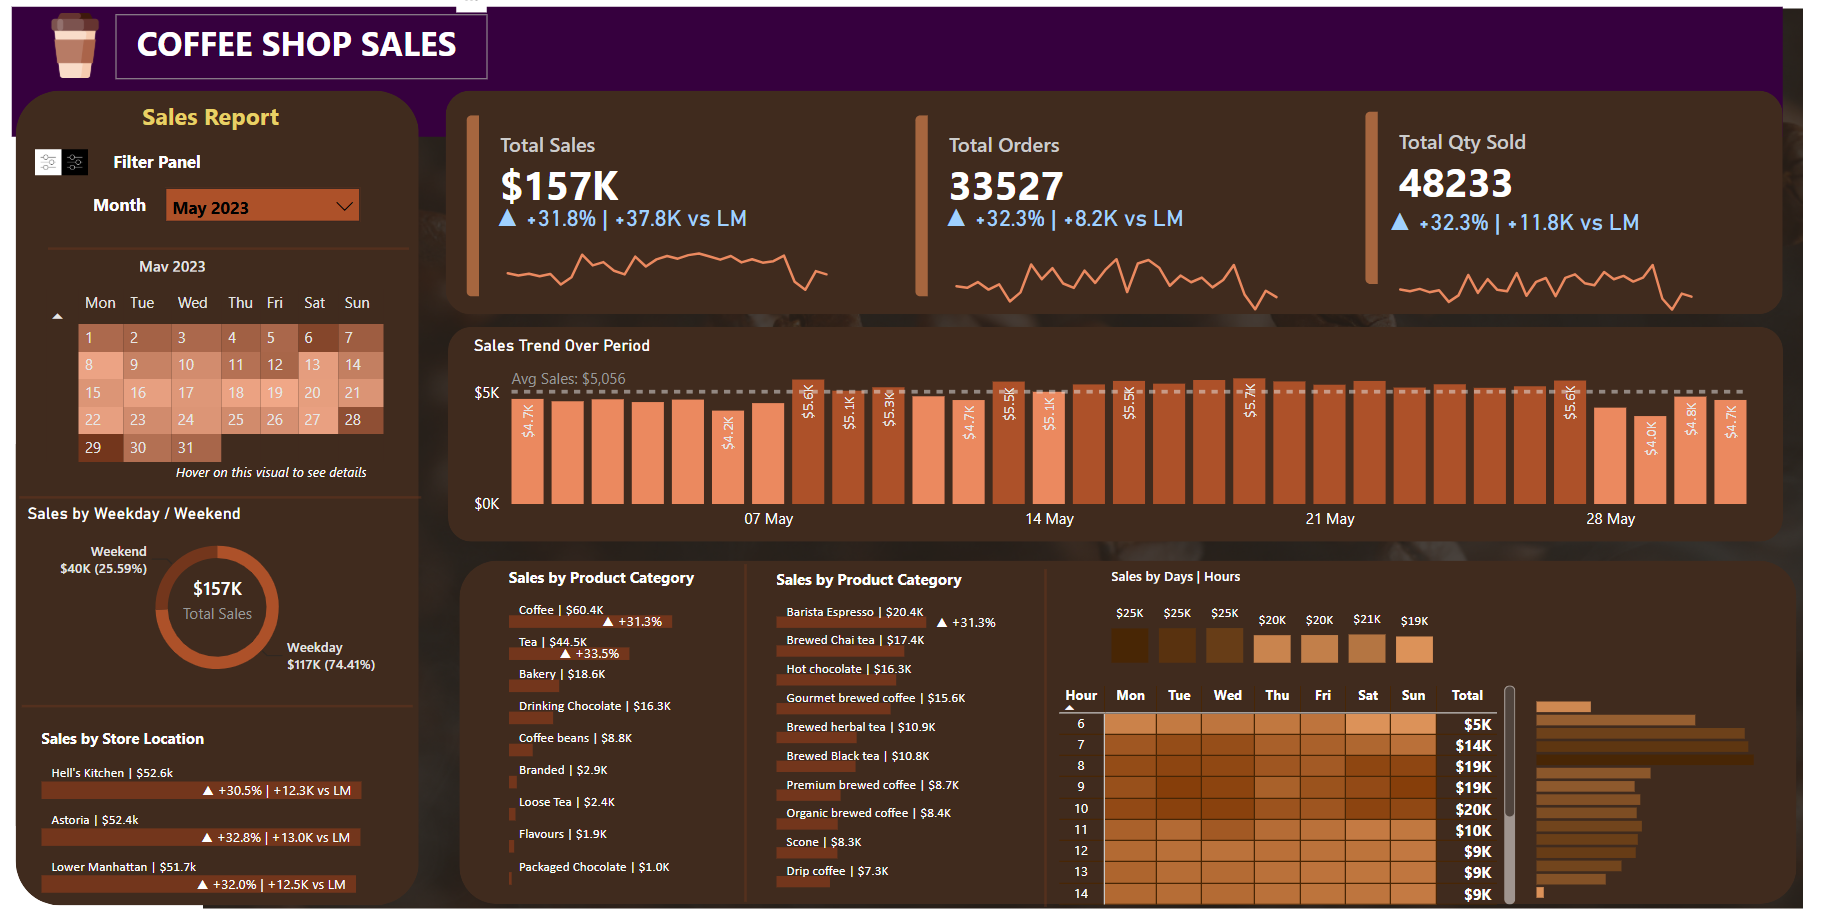

The page's visual inventory and layout, read from the dashboard file:
{"tool":"powerbi","page":{"name":"Dashboard Overview","canvas":[2200,900],"ordinal":0},"visuals":[{"type":"shape","box":[307.5,86.6,1416.4,104.5],"z":0},{"type":"shape","box":[310.4,153.7,322.4,652.2],"z":1000},{"type":"shape","box":[653.7,153.7,1070.1,179.1],"z":2000},{"type":"textbox","box":[389.6,92.5,298.5,52.2],"z":3000},{"type":"cardVisual","fields":{"Data":["Transactions.Total Qty Sold"]},"box":[1372.8,153.6,320,171.6],"z":4000,"group":"g3"},{"type":"cardVisual","fields":{"Data":["Transactions.Total Sales"]},"box":[653.7,156.8,320,179.1],"z":4000,"group":"g1"},{"type":"cardVisual","fields":{"Data":["Transactions.Total Orders"]},"box":[1012.5,156.8,320.9,179.1],"z":4000,"group":"g2"},{"type":"slicer","fields":{"Values":["Date Table.Month Year"]},"box":[424.8,226.7,166.7,40],"z":4000},{"type":"group","id":"g1","title":"Group 1","box":[653.7,156.8,319.4,179.1],"z":5000},{"type":"group","id":"g2","title":"Group 1","box":[1012.5,156.8,320.9,179.1],"z":6000},{"type":"lineChart","fields":{"Category":["Date Table.Date.Variation.Date Hierarchy.Year","Date Table.Date.Variation.Date Hierarchy.Quarter","Date Table.Date.Variation.Date Hierarchy.Month","Date Table.Date.Variation.Date Hierarchy.Day"],"Y":["Transactions.Total Sales"]},"box":[688.8,243.4,284.9,92.5],"z":6000,"group":"g1"},{"type":"lineChart","fields":{"Category":["Date Table.Date.Variation.Date Hierarchy.Year","Date Table.Date.Variation.Date Hierarchy.Quarter","Date Table.Date.Variation.Date Hierarchy.Month","Date Table.Date.Variation.Date Hierarchy.Day"],"Y":["Transactions.Total Orders"]},"box":[1047.7,243.4,285.7,92.5],"z":6000,"group":"g2"},{"type":"lineChart","fields":{"Category":["Date Table.Date.Variation.Date Hierarchy.Year","Date Table.Date.Variation.Date Hierarchy.Quarter","Date Table.Date.Variation.Date Hierarchy.Month","Date Table.Date.Variation.Date Hierarchy.Day"],"Y":["Transactions.Total Qty Sold"]},"box":[1403.3,246.6,262.7,92.5],"z":6000,"group":"g3"},{"type":"group","id":"g3","title":"Group 1","box":[1372.8,153.6,320,185.5],"z":7000},{"type":"pivotTable","fields":{"Columns":["Date Table.Day Name"],"Rows":["Date Table.Week Number"],"Values":["Min(Date Table.Day No)"]},"box":[329.5,308,294.3,161.4],"z":8000},{"type":"cardVisual","fields":{"Data":["Min(Date Table.Month Year)"]},"box":[365.3,275,141.7,36.1],"z":9000},{"type":"cardVisual","fields":{"Data":["Date Table.Foot Note"]},"box":[397.2,433.3,236.1,50],"z":10000},{"type":"shape","box":[312.5,469.4,322.2,20.8],"z":11000},{"type":"shape","box":[315.3,636.1,312.5,20.8],"z":12000},{"type":"donutChart","title":"Sales by Weekday / Weekend","fields":{"Category":["Date Table.Weekday / Weekend"],"Y":["Transactions.Total Sales"]},"box":[315.3,484.7,312.5,151.4],"z":13000},{"type":"cardVisual","fields":{"Data":["Transactions.Total Sales"]},"box":[419.4,529.2,105.6,63.9],"z":14000},{"type":"clusteredBarChart","title":"Sales by Store Location","fields":{"Category":["Transactions.store_location"],"Y":["Transactions.Placeholder","Transactions.Total Sales"]},"box":[326.4,663.9,301.4,138.9],"z":15000},{"type":"shape","box":[336.4,269.7,288.9,20.8],"z":16000},{"type":"shape","box":[655.6,343.1,1068.1,172.2],"z":17000},{"type":"columnChart","title":"Sales Trend Over Period","fields":{"Category":["Transactions.transaction_date"],"Y":["Transactions.Total Sales"]},"box":[672.2,350,1036.1,165.3],"z":18000},{"type":"shape","box":[664.8,529.5,1070.5,275.2],"z":19000},{"type":"clusteredBarChart","title":"Sales by Product Category","fields":{"Category":["Transactions.product_category"],"Y":["Transactions.Placeholder","Transactions.Total Sales"]},"box":[700,535.2,182.9,260],"z":20000},{"type":"shape","box":[882.9,533.3,21.9,269.5],"z":21000},{"type":"clusteredBarChart","title":"Sales by Product Category","fields":{"Category":["Transactions.product_type"],"Y":["Transactions.Placeholder","Transactions.Total Sales"]},"box":[914.3,537.1,185.7,260],"z":22000},{"type":"shape","box":[1122.9,537.1,21.9,269.5],"z":23000},{"type":"pivotTable","fields":{"Columns":["Date Table.Day Name"],"Rows":["Transactions.Hour"],"Values":["Transactions.Total Sales"]},"box":[1144.8,629.5,365.7,175.2],"z":24000},{"type":"barChart","fields":{"Category":["Transactions.Hour"],"Y":["Transactions.Total Sales"]},"box":[1521.9,629.5,186.7,175.2],"z":25000},{"type":"columnChart","title":"Sales by Days | Hours","fields":{"Category":["Date Table.Day Name"],"Y":["Transactions.Total Sales"]},"box":[1181.9,535.2,268.6,82.9],"z":26000},{"type":"textbox","box":[359,231.4,68.6,29.5],"z":27000},{"type":"textbox","box":[394.3,157.1,144.8,37.1],"z":28000},{"type":"textbox","box":[373.9,196.6,98.9,29.5],"z":28001},{"type":"image","box":[320.5,201.1,53.4,20.5],"z":28002},{"type":"image","box":[326,92.2,63.6,51.9],"z":28003}]}

Visuals, with their boxes on the page's 2200x900 design canvas (x1, y1, x2, y2). These are canvas units, not pixel positions in the 1835x911 screenshot, which may show the page scaled, cropped or inside an application window:
shape: 308/87/1724/191
shape: 310/154/633/806
shape: 654/154/1724/333
textbox: 390/92/688/145
cardVisual - Transactions.Total Qty Sold: 1373/154/1693/325
cardVisual - Transactions.Total Sales: 654/157/974/336
cardVisual - Transactions.Total Orders: 1012/157/1333/336
slicer - Date Table.Month Year: 425/227/592/267
"Group 1" group: 654/157/973/336
"Group 1" group: 1012/157/1333/336
lineChart - Date Table.Date.Variation.Date Hierarchy.Year x Date Table.Date.Variation.Date Hierarchy.Quarter: 689/243/974/336
lineChart - Date Table.Date.Variation.Date Hierarchy.Year x Date Table.Date.Variation.Date Hierarchy.Quarter: 1048/243/1333/336
lineChart - Date Table.Date.Variation.Date Hierarchy.Year x Date Table.Date.Variation.Date Hierarchy.Quarter: 1403/247/1666/339
"Group 1" group: 1373/154/1693/339
pivotTable - Date Table.Day Name x Date Table.Week Number: 330/308/624/469
cardVisual - Min(Date Table.Month Year): 365/275/507/311
cardVisual - Date Table.Foot Note: 397/433/633/483
shape: 312/469/635/490
shape: 315/636/628/657
"Sales by Weekday / Weekend" donutChart: 315/485/628/636
cardVisual - Transactions.Total Sales: 419/529/525/593
"Sales by Store Location" clusteredBarChart: 326/664/628/803
shape: 336/270/625/290
shape: 656/343/1724/515
"Sales Trend Over Period" columnChart: 672/350/1708/515
shape: 665/530/1735/805
"Sales by Product Category" clusteredBarChart: 700/535/883/795
shape: 883/533/905/803
"Sales by Product Category" clusteredBarChart: 914/537/1100/797
shape: 1123/537/1145/807
pivotTable - Date Table.Day Name x Transactions.Hour: 1145/630/1510/805
barChart - Transactions.Hour x Transactions.Total Sales: 1522/630/1709/805
"Sales by Days | Hours" columnChart: 1182/535/1450/618
textbox: 359/231/428/261
textbox: 394/157/539/194
textbox: 374/197/473/226
image: 320/201/374/222
image: 326/92/390/144
